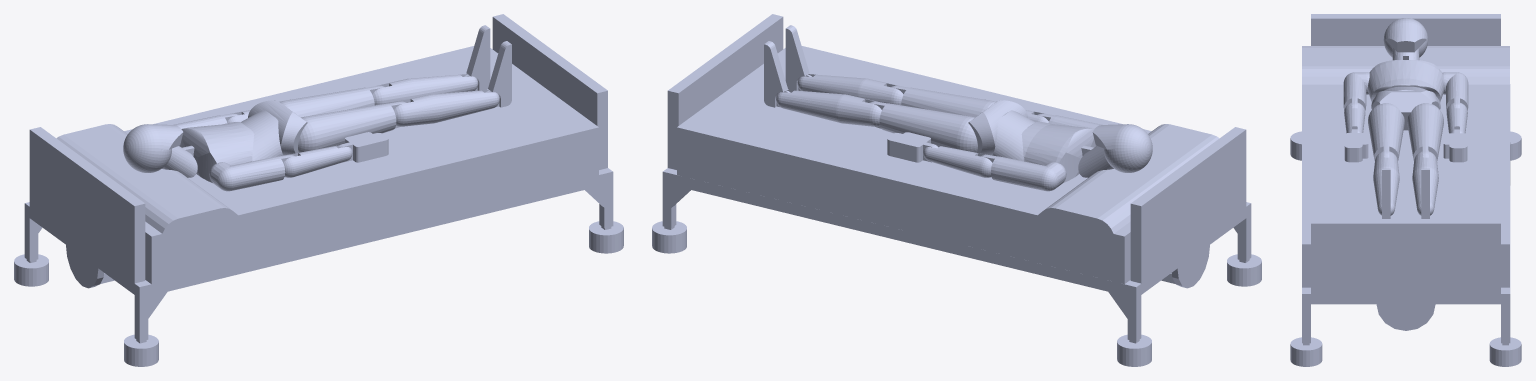
Rendered from bed_and_body_v3_nowall_rounded.dae.
3 renders of one model, left to right at view 1: azimuth 30°, elevation 25°; view 2: azimuth 150°, elevation 25°; view 3: azimuth 270°, elevation 25°, orthographic. The views are drawn at different scales.
Visible parts, largest first — view 1: bed_frame_link, leg_rest_lower_link, head_rest_link, leg_rest_upper_link, quad_right_link, base_link, upper_body_link, calf_right_link, head_link, calf_left_link, arm_right_link, quad_left_link (+7 smaller); view 2: bed_frame_link, leg_rest_lower_link, head_rest_link, leg_rest_upper_link, quad_left_link, base_link, upper_body_link, calf_left_link, head_link, calf_right_link, arm_left_link, quad_right_link (+7 smaller); view 3: bed_frame_link, head_rest_link, leg_rest_lower_link, leg_rest_upper_link, base_link, upper_body_link, quad_left_link, quad_right_link, head_link, lower_body_link, calf_left_link, calf_right_link (+10 smaller).
Boxes of the visible parts, bbox=[...] form: bed_frame_link: bbox=[24, 14, 613, 341]; leg_rest_lower_link: bbox=[335, 46, 598, 211]; head_rest_link: bbox=[56, 114, 307, 284]; leg_rest_upper_link: bbox=[254, 80, 449, 230]; quad_right_link: bbox=[298, 101, 406, 152]; base_link: bbox=[14, 221, 623, 366]; upper_body_link: bbox=[179, 122, 254, 182]; calf_right_link: bbox=[394, 90, 499, 126]; head_link: bbox=[123, 124, 183, 172]; calf_left_link: bbox=[372, 74, 478, 105]; arm_right_link: bbox=[209, 154, 294, 191]; quad_left_link: bbox=[279, 85, 384, 117]; bed_frame_link: bbox=[662, 14, 1251, 341]; leg_rest_lower_link: bbox=[677, 46, 940, 211]; head_rest_link: bbox=[968, 114, 1219, 284]; leg_rest_upper_link: bbox=[826, 80, 1021, 230]; quad_left_link: bbox=[869, 101, 977, 152]; base_link: bbox=[652, 221, 1261, 366]; upper_body_link: bbox=[1021, 121, 1096, 182]; calf_left_link: bbox=[776, 90, 881, 126]; head_link: bbox=[1092, 124, 1152, 172]; calf_right_link: bbox=[797, 74, 903, 105]; arm_left_link: bbox=[980, 154, 1066, 191]; quad_right_link: bbox=[891, 85, 996, 117]; bed_frame_link: bbox=[1302, 14, 1510, 343]; head_rest_link: bbox=[1302, 46, 1509, 115]; leg_rest_lower_link: bbox=[1302, 178, 1509, 287]; leg_rest_upper_link: bbox=[1302, 142, 1509, 177]; base_link: bbox=[1290, 131, 1521, 366]; upper_body_link: bbox=[1367, 60, 1444, 102]; quad_left_link: bbox=[1407, 103, 1443, 160]; quad_right_link: bbox=[1368, 103, 1404, 160]; head_link: bbox=[1383, 18, 1428, 57]; lower_body_link: bbox=[1373, 91, 1438, 130]; calf_left_link: bbox=[1412, 151, 1438, 215]; calf_right_link: bbox=[1373, 151, 1399, 215].
Size of the model in its own units: 2.28 by 1.01 by 0.8097.
